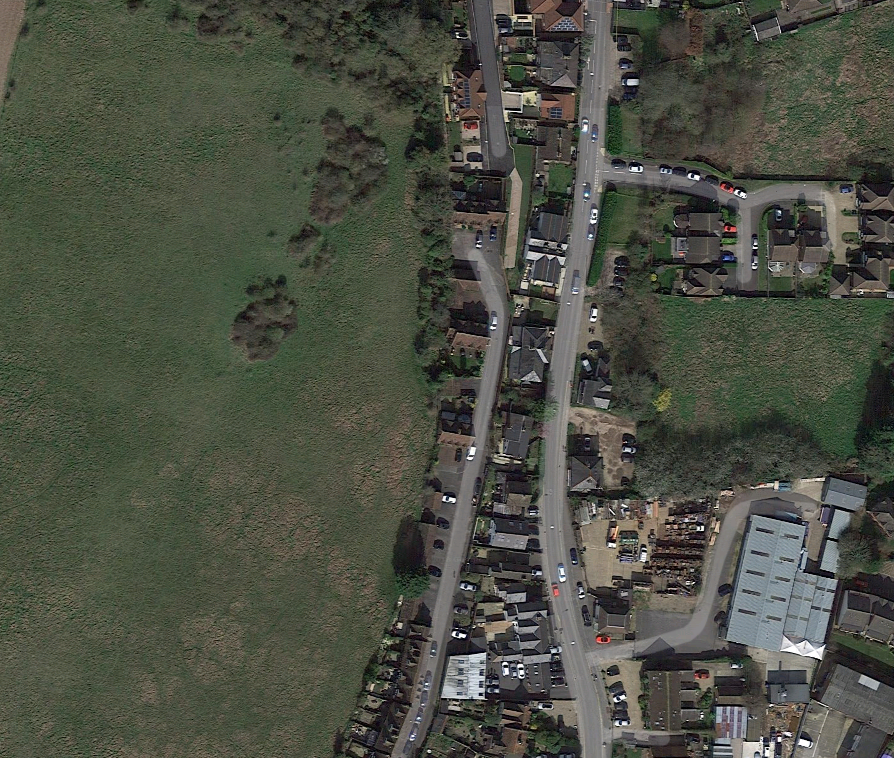tree: (384, 553, 446, 608), (416, 359, 456, 396), (251, 273, 289, 302), (655, 381, 684, 416)
